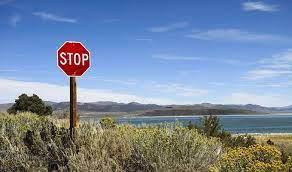Pole: (69, 78, 77, 143)
Sign: (57, 41, 90, 78)
